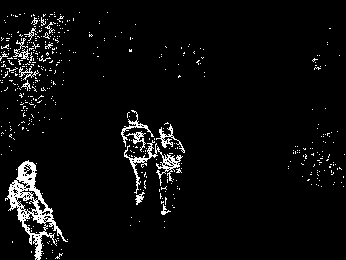person: (5, 154, 71, 260), (158, 114, 186, 215), (124, 109, 153, 203)
